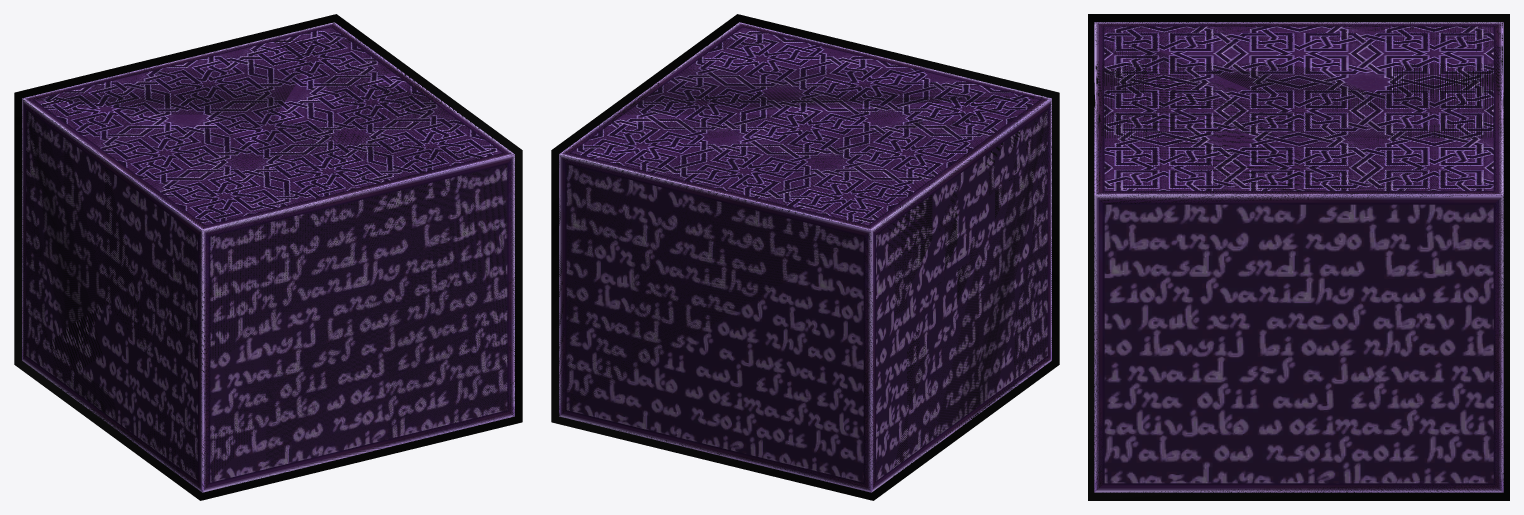
Rendered from WonderBlock4.gltf.
3 views of the same model, side by side, from view 1: azimuth 30°, elevation 25°; view 2: azimuth 150°, elevation 25°; view 3: azimuth 270°, elevation 25° (orthographic). The views are drawn at different scales.
Parts seen in each view (by area): view 1: WonderBlock4Mesh, WonderBlock4ZWriteMesh, WonderBlock4BloomMesh; view 2: WonderBlock4Mesh, WonderBlock4ZWriteMesh, WonderBlock4BloomMesh; view 3: WonderBlock4Mesh, WonderBlock4ZWriteMesh, WonderBlock4BloomMesh.
Boxes of the visible parts, x1=… form: WonderBlock4Mesh: x1=22, y1=22, x2=514, y2=492; WonderBlock4ZWriteMesh: x1=22, y1=22, x2=514, y2=491; WonderBlock4BloomMesh: x1=14, y1=14, x2=522, y2=500; WonderBlock4Mesh: x1=559, y1=22, x2=1051, y2=492; WonderBlock4ZWriteMesh: x1=559, y1=23, x2=1051, y2=489; WonderBlock4BloomMesh: x1=551, y1=14, x2=1059, y2=500; WonderBlock4Mesh: x1=1094, y1=22, x2=1503, y2=492; WonderBlock4ZWriteMesh: x1=1094, y1=22, x2=1503, y2=492; WonderBlock4BloomMesh: x1=1088, y1=14, x2=1509, y2=500.
Size of the model in its own units: 5.2 by 4.2 by 5.2.
4 materials, 2 textured.
